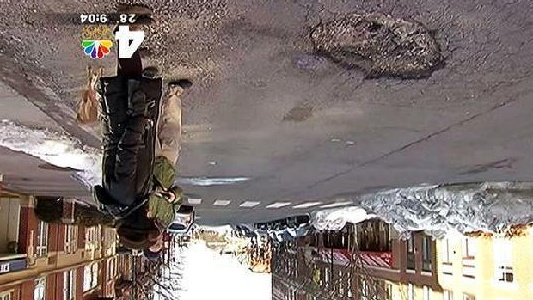pothole: (307, 13, 449, 85)
